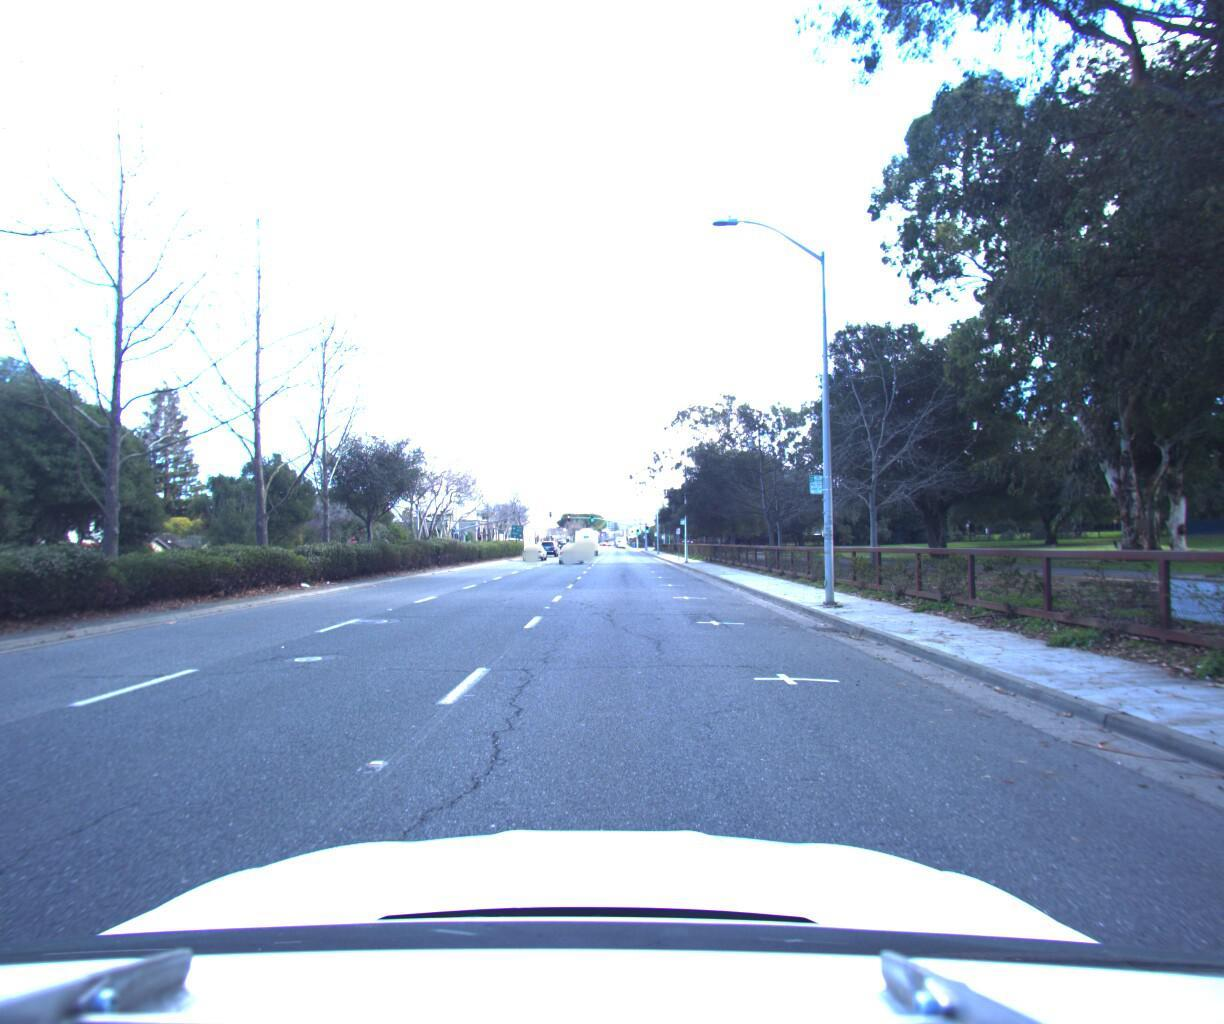car: (556, 534, 584, 557), (521, 533, 547, 552), (545, 531, 568, 548)
